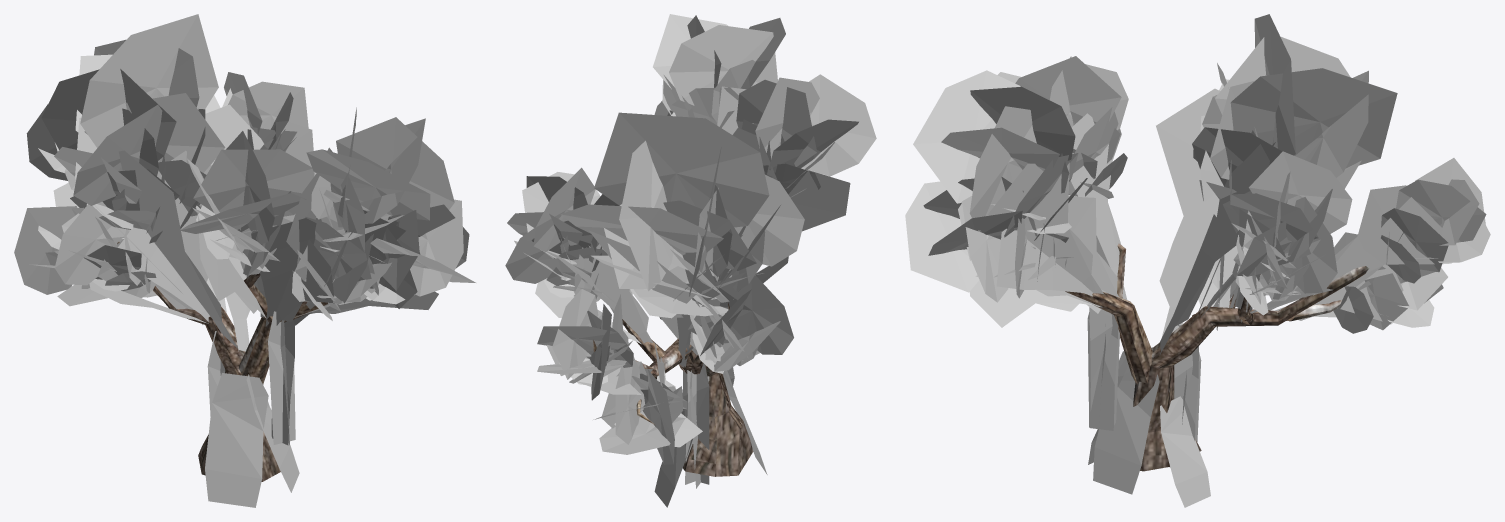
The model's file is Oak_002.fbx.
The picture shows the model from 3 angles, left to right: view 1: azimuth 30°, elevation 25°; view 2: azimuth 150°, elevation 25°; view 3: azimuth 270°, elevation 25°; orthographic projection. The views are drawn at different scales.
Visible parts, largest first — view 1: Tree_Oak_Leaves2, Tree_Oak_Leaves2_details, Tree_Oak_Trunk2; view 2: Tree_Oak_Leaves2, Tree_Oak_Trunk2, Tree_Oak_Leaves2_details; view 3: Tree_Oak_Leaves2, Tree_Oak_Leaves2_details, Tree_Oak_Trunk2.
Part boxes in pixels (bbox=[...]): Tree_Oak_Leaves2: bbox=[14, 14, 475, 351]; Tree_Oak_Leaves2_details: bbox=[205, 311, 299, 507]; Tree_Oak_Trunk2: bbox=[117, 242, 327, 481]; Tree_Oak_Leaves2: bbox=[505, 14, 876, 464]; Tree_Oak_Trunk2: bbox=[593, 302, 753, 476]; Tree_Oak_Leaves2_details: bbox=[654, 363, 767, 507]; Tree_Oak_Leaves2: bbox=[905, 14, 1490, 354]; Tree_Oak_Leaves2_details: bbox=[1087, 307, 1210, 507]; Tree_Oak_Trunk2: bbox=[1065, 243, 1368, 471].
Bounding box in the file's own units: 1853 × 2728 × 3230.
